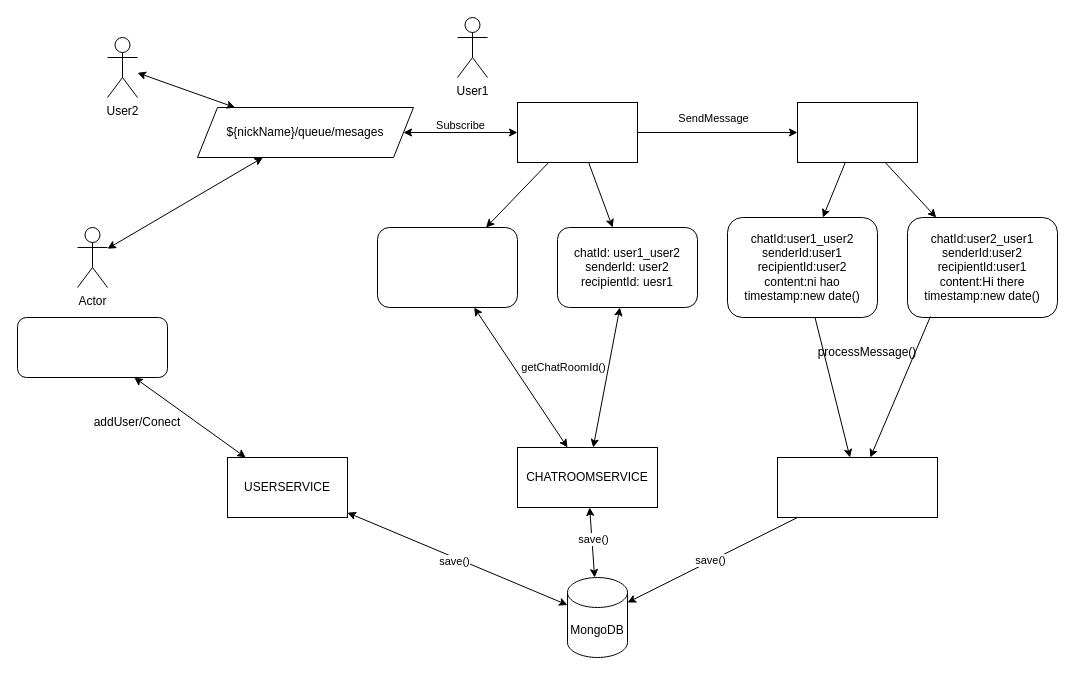
Image size: 1075x675. Some labels were removed from this diagram. Each missing label, with the centre of its shape:
"chatId: user1_user2 senderId: user1 recipientId: uesr2" belongs at (447,267).
"CHATMESSAGE" belongs at (857,132).
"CHATMESSAGESERVICE" belongs at (857,487).
"CHATROOM" belongs at (577,132).
"nickName:user3 fullName:Cao Nguyen status:ONLINE" belongs at (92,347).
